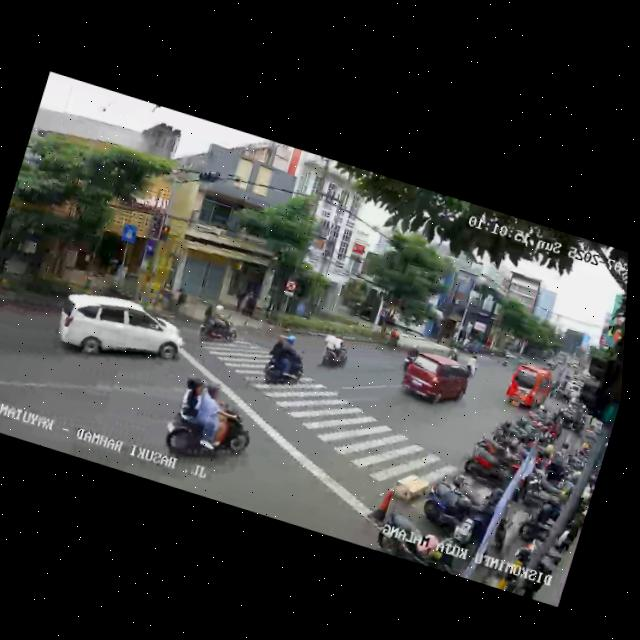car: (45, 278, 189, 386), (394, 345, 475, 415), (502, 359, 557, 417)
motorcycle: (155, 374, 253, 481), (255, 332, 313, 399), (194, 297, 245, 354), (316, 328, 355, 374), (402, 342, 421, 369), (384, 323, 403, 348)
